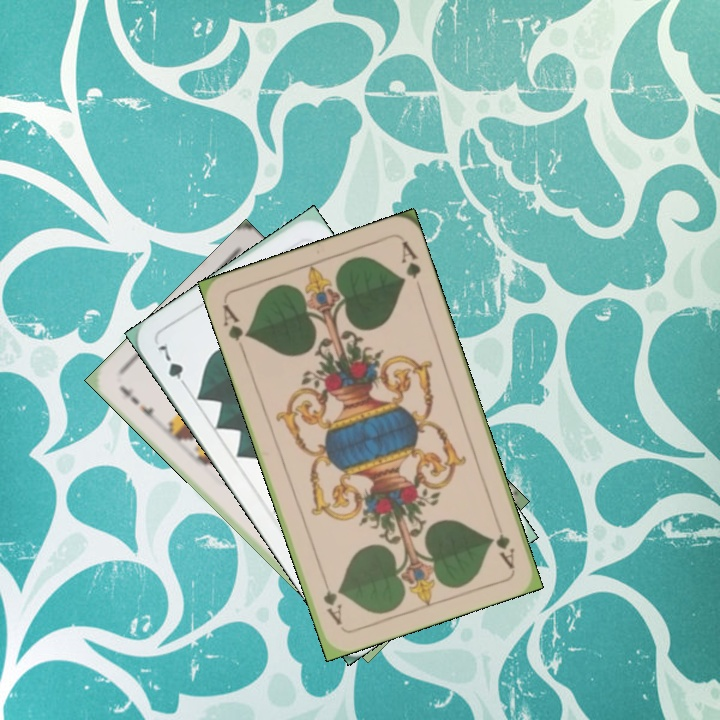E7: (114, 381, 163, 427)
G7: (153, 340, 191, 393)
GA: (218, 299, 252, 356), (489, 513, 517, 571)
